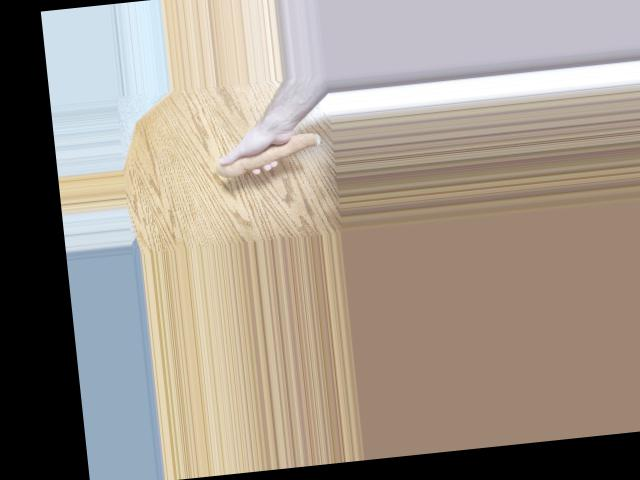sweet_potato: (214, 129, 324, 179)
